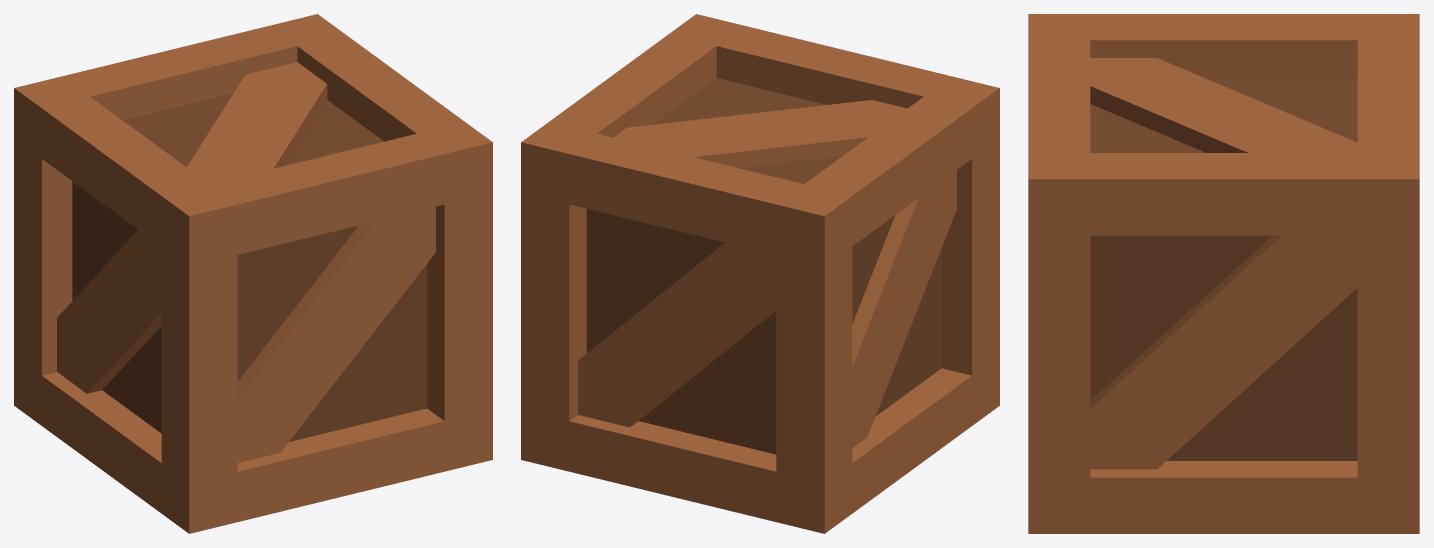
The model's file is crate.glb.
3 renders of one model, left to right at view 1: azimuth 30°, elevation 25°; view 2: azimuth 150°, elevation 25°; view 3: azimuth 270°, elevation 25°, orthographic. The views are drawn at different scales.
Visible parts, largest first — view 1: crate; view 2: crate; view 3: crate.
Part boxes in pixels (x1,y1,x2,y2): crate: (14, 14, 492, 533); crate: (521, 14, 999, 533); crate: (1028, 14, 1419, 533).
Size of the model in its own units: 0.5 by 0.5 by 0.5.
